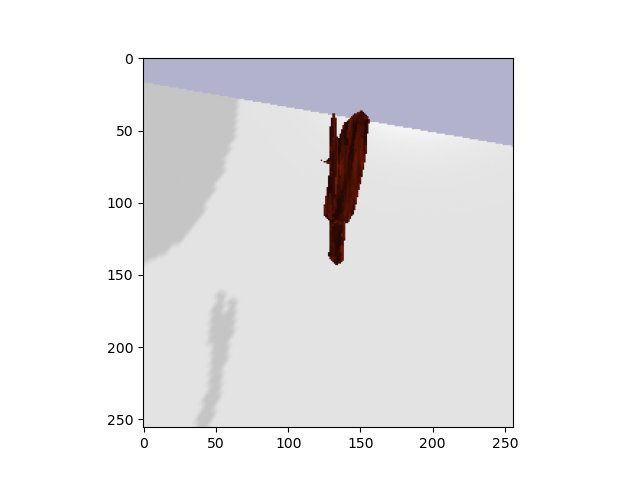v249b387_107: (317, 107, 385, 272)
